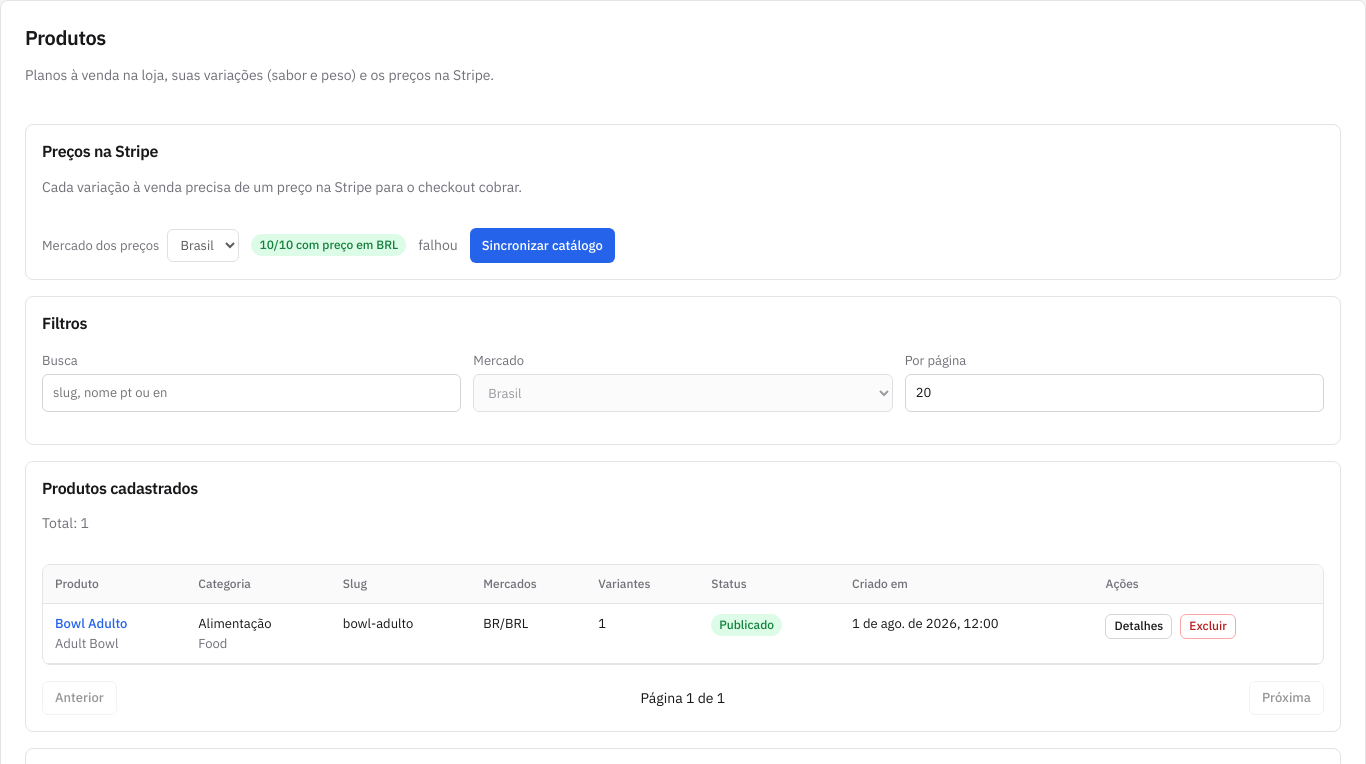
Test: ProductsPage › deletes a product from the catalog list
The image size is (1366, 764).
What coordinates should you click on to do the following:
click the button with aria-label "Excluir produto Bowl Adulto"
I would click on:
 (1208, 626)
Its box is [1180,614,1236,639].
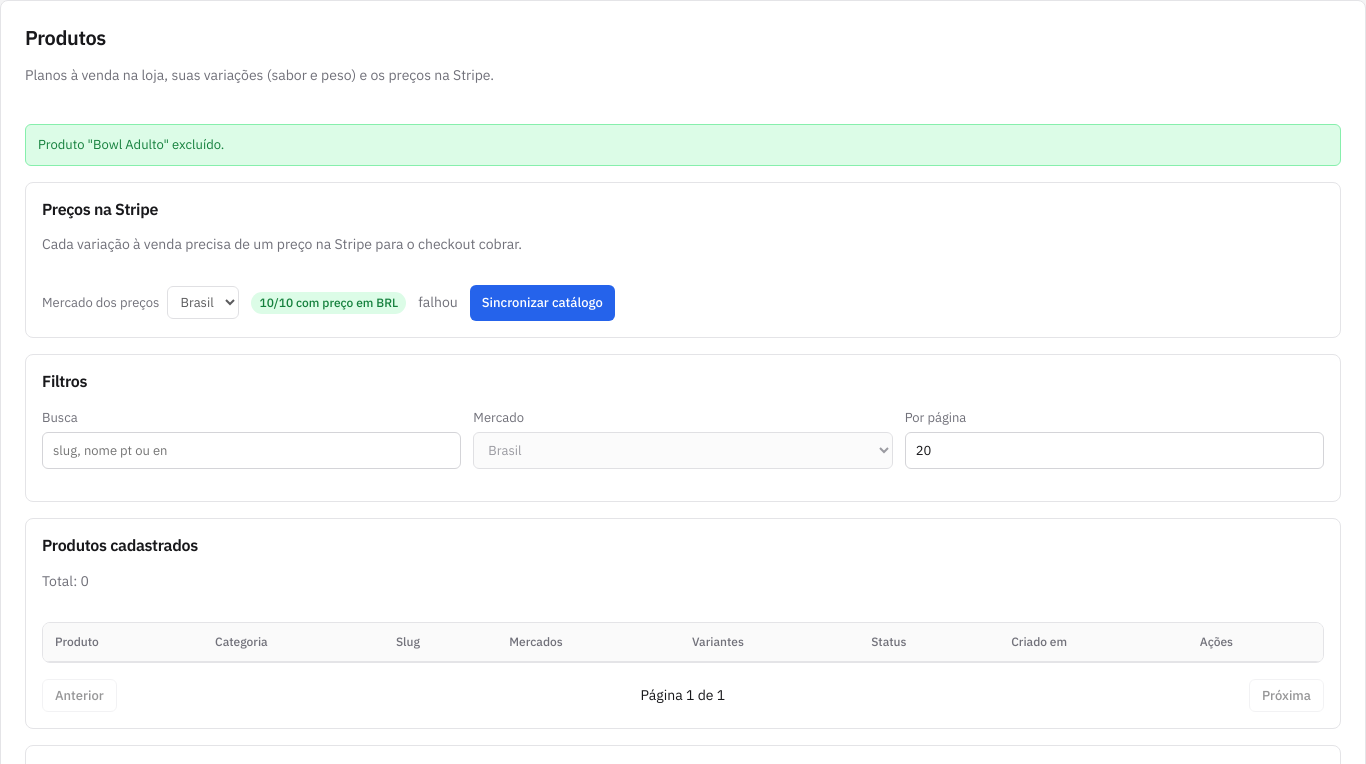
Result: the text "Produto \"Bowl Adulto\" excluído." is shown at [25,124,1341,166]
